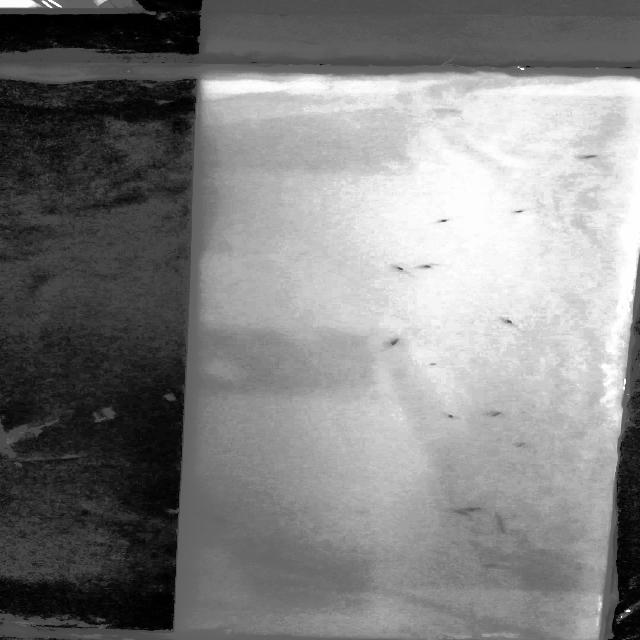shrimp: (216, 515, 266, 527), (495, 515, 513, 537), (499, 317, 525, 330), (382, 337, 404, 351), (429, 215, 457, 224), (414, 264, 442, 272), (483, 558, 503, 569), (487, 410, 507, 420), (446, 510, 469, 518), (442, 412, 462, 421), (510, 208, 531, 216), (392, 263, 410, 272), (468, 505, 487, 512), (579, 154, 597, 160)
